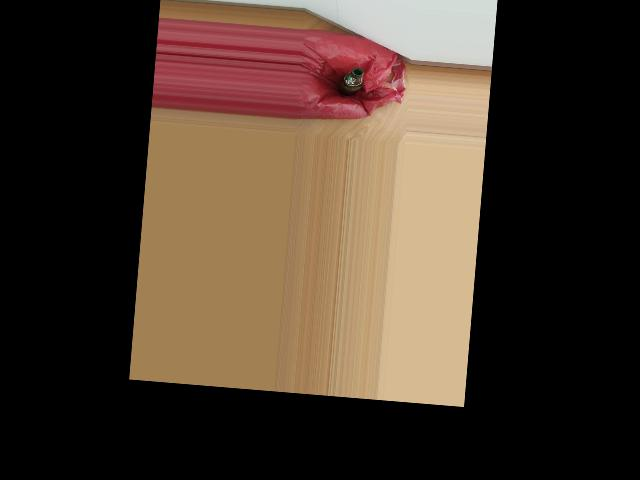beer: (338, 66, 364, 97)
